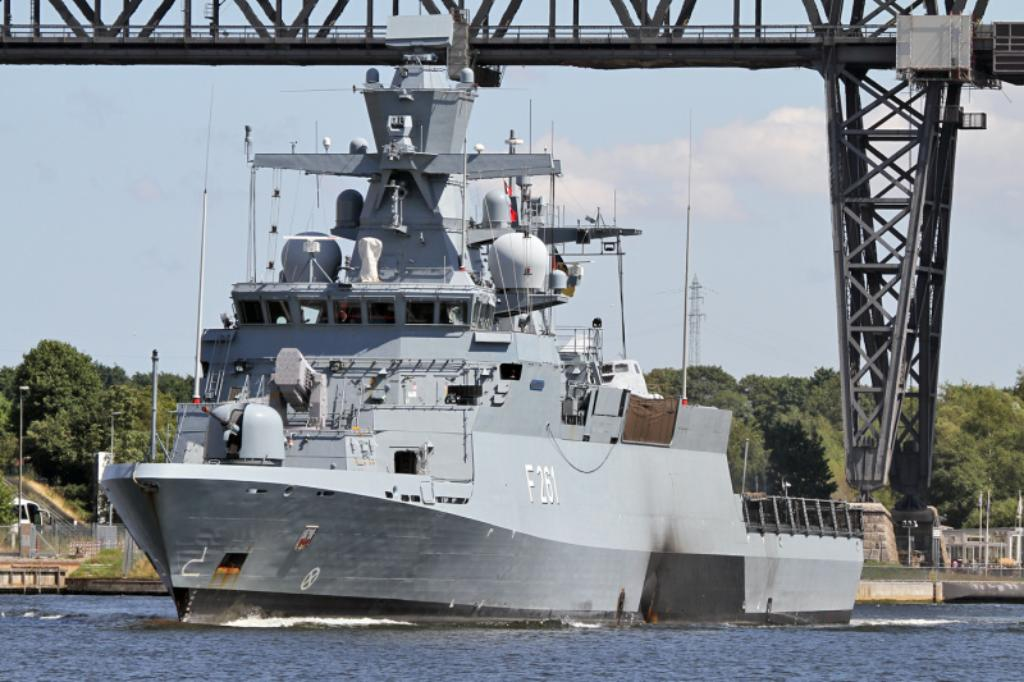Warship: (94, 2, 870, 626)
